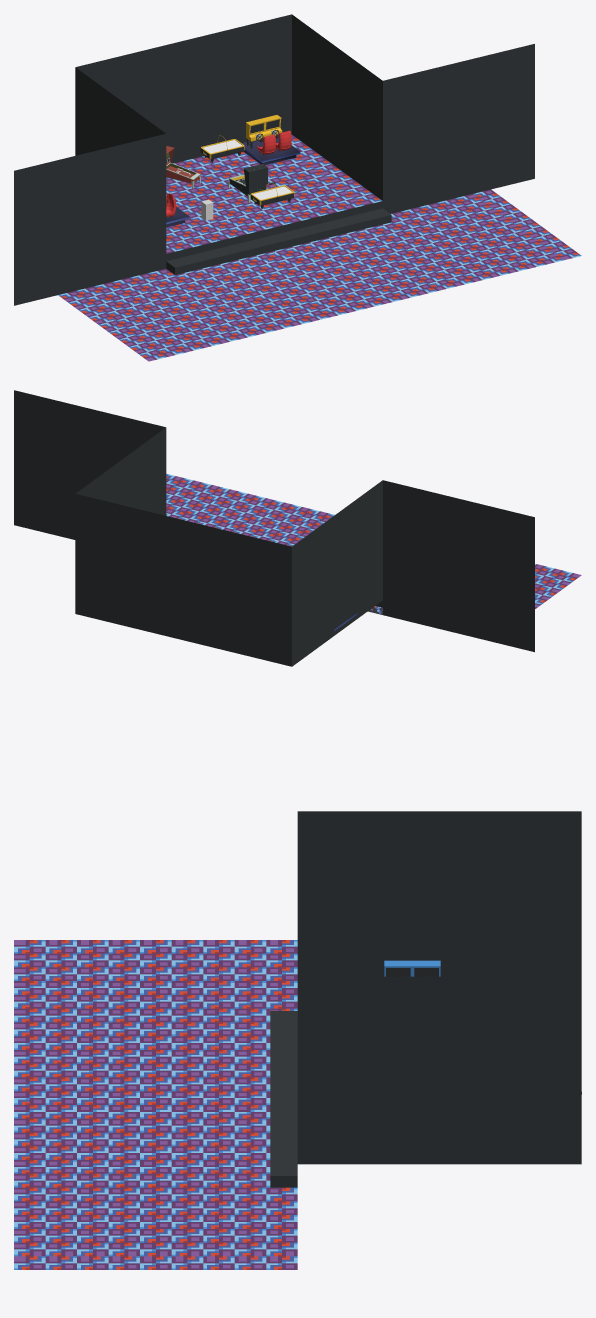
Rendered from LD51ArcadeGround.fbx.
3 renders of one model, top to bottom at view 1: azimuth 30°, elevation 25°; view 2: azimuth 150°, elevation 25°; view 3: azimuth 270°, elevation 25°, orthographic. The views are drawn at different scales.
Visible parts, largest first — view 1: Club_Wall, Club_Ground.001, Club_Ground, Racer_Arcade.001, Flipper, RaceArcadePlatform1, Air_Hockey, Air_Hockey.001, Flipper.001; view 2: Club_Wall, Club_Ground.001; view 3: Club_Wall, Club_Ground.001, Racer_Arcade.
Part boxes in pixels (x1,y1,x2,y2): Club_Wall: [14, 14, 534, 305]; Club_Ground.001: [58, 189, 581, 361]; Club_Ground: [166, 134, 382, 253]; Racer_Arcade.001: [246, 115, 291, 155]; Flipper: [228, 164, 267, 202]; RaceArcadePlatform1: [242, 135, 300, 165]; Air_Hockey: [250, 181, 294, 208]; Air_Hockey.001: [200, 135, 244, 162]; Flipper.001: [166, 146, 200, 188]; Club_Wall: [14, 390, 534, 666]; Club_Ground.001: [166, 473, 581, 613]; Club_Wall: [270, 811, 581, 1187]; Club_Ground.001: [14, 940, 297, 1269]; Racer_Arcade: [384, 960, 440, 976].
Size of what is drawn, in the model's own units: 13691 by 8273 by 3390.
